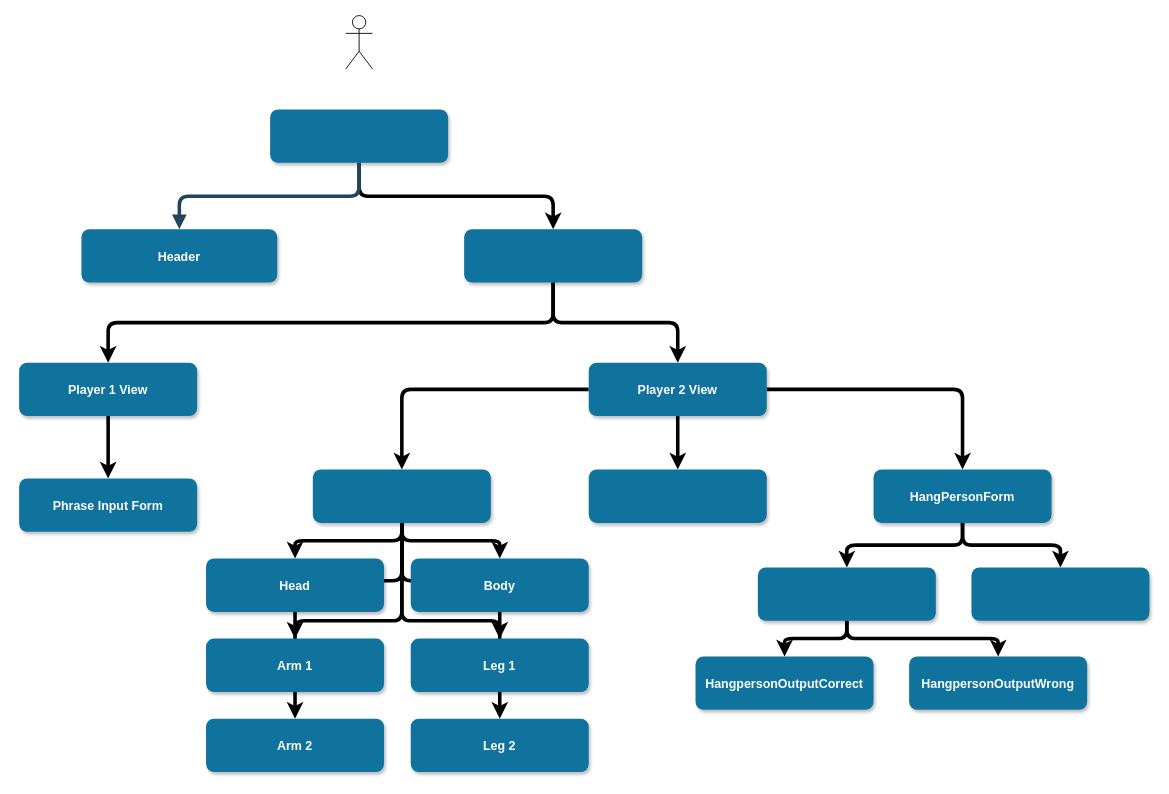
Some shapes in this 1169 by 794 pixel diagram are drawn without their labels. The centre of each missing label's shape, as x and y in pixels:
Actor: (x=358, y=42)
App Parent: (x=359, y=137)
Hangman Control: (x=553, y=256)
HangpersonInput: (x=1060, y=595)
HangpersonList: (x=402, y=497)
HangpersonOutput: (x=847, y=595)
NewGame: (x=678, y=497)
